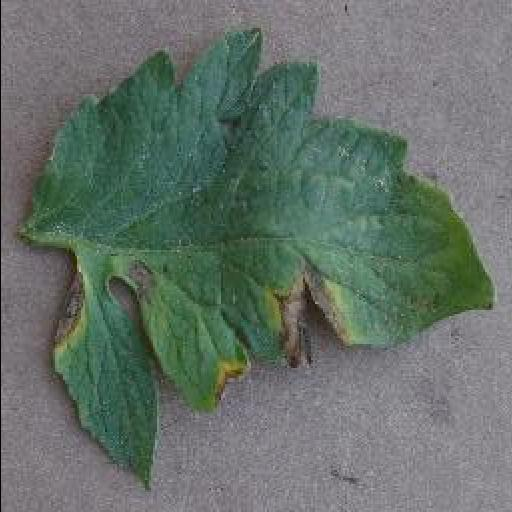disease_tomato: (16, 32, 498, 488)
